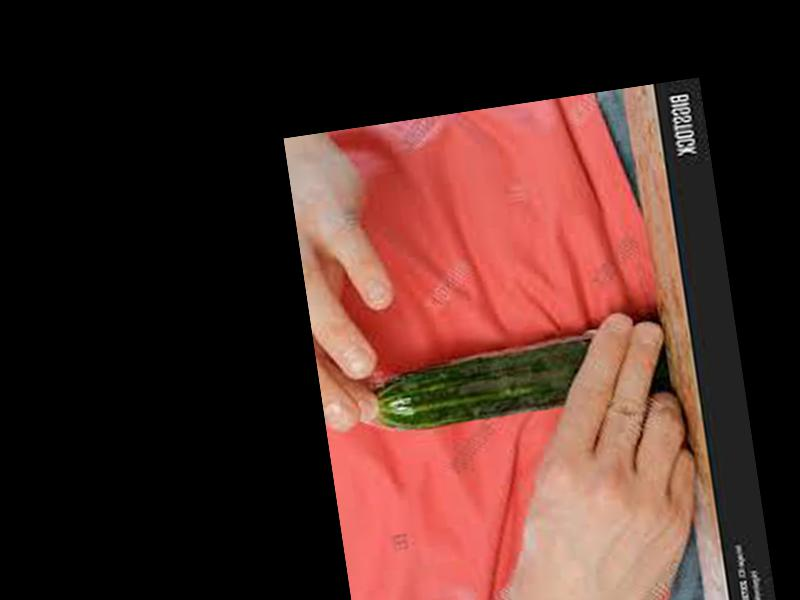Cucumber: (370, 334, 602, 436)
